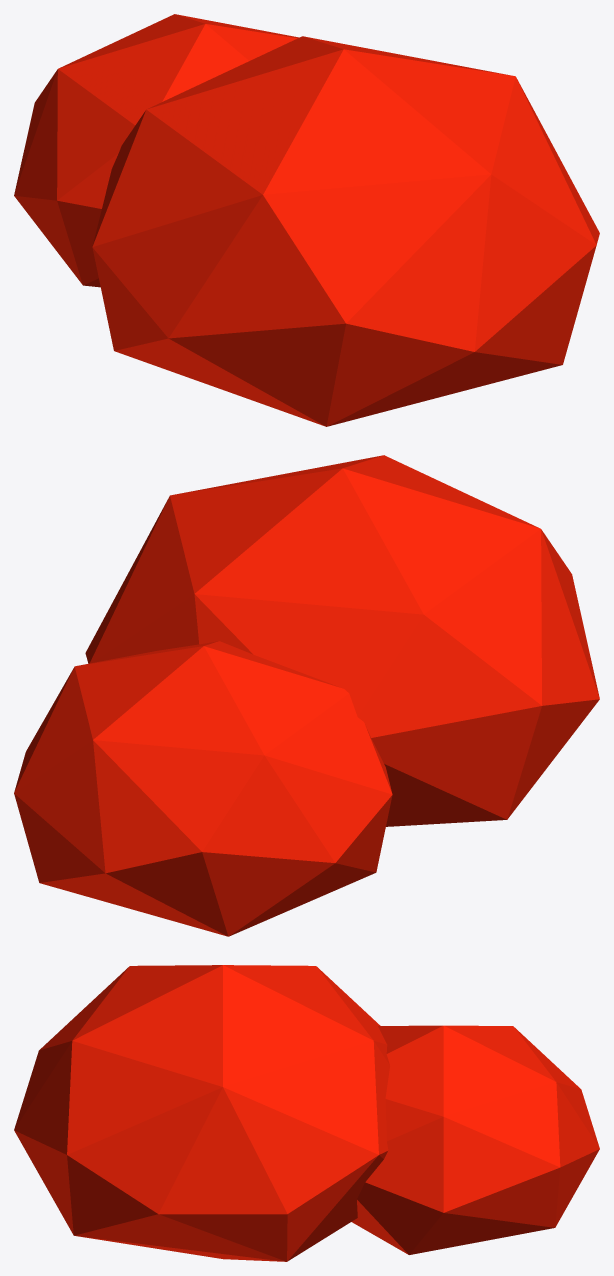
File: Duo_Bush_003.fbx
The picture shows the model from 3 angles, top to bottom: view 1: azimuth 30°, elevation 25°; view 2: azimuth 150°, elevation 25°; view 3: azimuth 270°, elevation 25°; orthographic projection. The views are drawn at different scales.
Visible parts, largest first — view 1: Duo Bush.003; view 2: Duo Bush.003; view 3: Duo Bush.003.
Part boxes in pixels (bbox=[...]): Duo Bush.003: bbox=[14, 14, 599, 426]; Duo Bush.003: bbox=[14, 455, 599, 936]; Duo Bush.003: bbox=[14, 965, 599, 1261].
Size of the model in its own units: 139 by 93.68 by 201.
